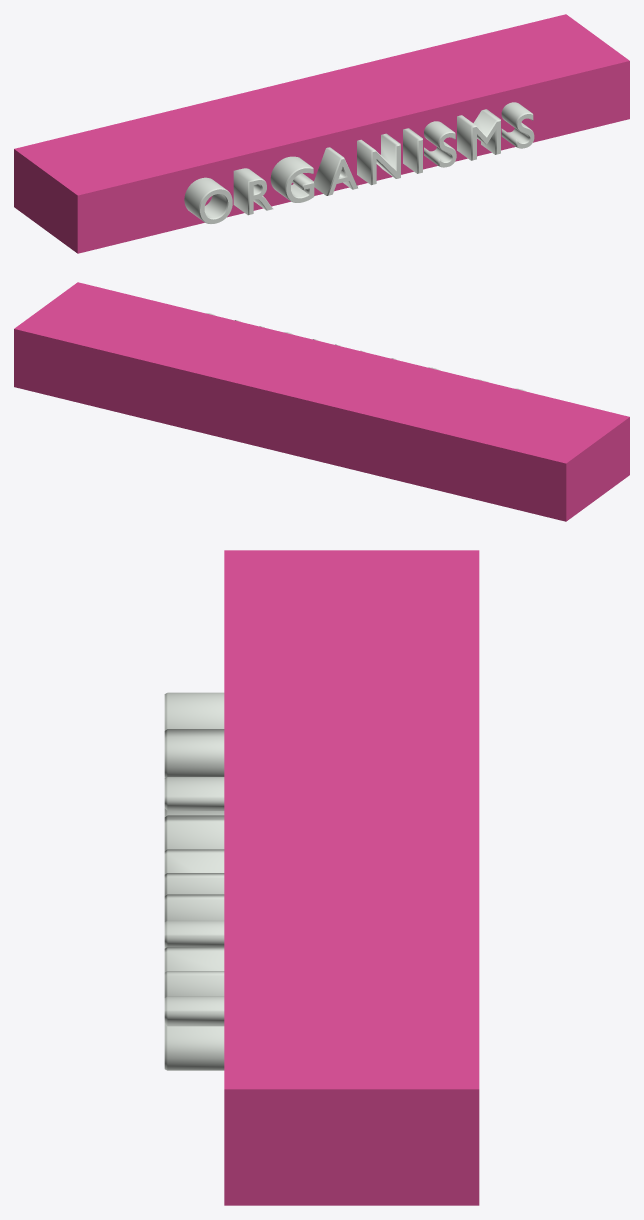
The model's file is organisms.gltf.
The picture shows the model from 3 angles, top to bottom: view 1: azimuth 30°, elevation 25°; view 2: azimuth 150°, elevation 25°; view 3: azimuth 270°, elevation 25°; orthographic projection. The views are drawn at different scales.
Parts seen in each view (by area): view 1: Cube.004, CEELS.004; view 2: Cube.004; view 3: Cube.004, CEELS.004.
Boxes of the visible parts, box(x1,y1,x2,y2) form: Cube.004: box(14, 14, 629, 253); CEELS.004: box(184, 102, 534, 223); Cube.004: box(14, 282, 629, 521); Cube.004: box(224, 550, 479, 1205); CEELS.004: box(164, 692, 224, 1070).
Size of the model in its own units: 6.91 by 0.6962 by 1.71.
